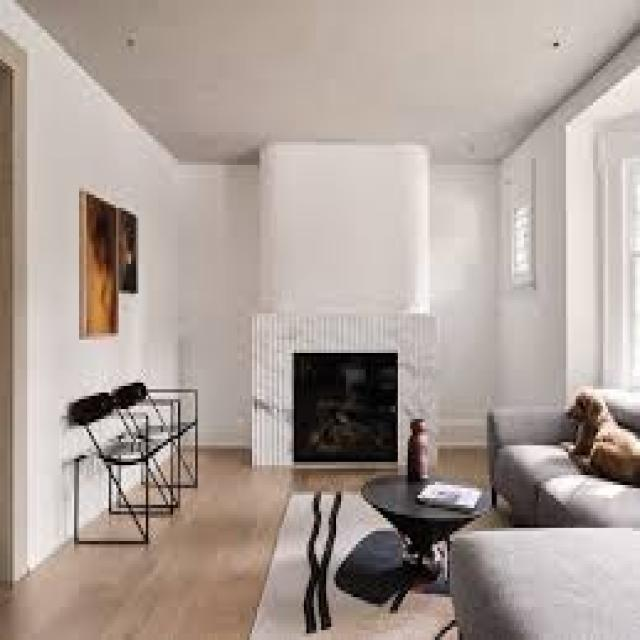Chair: (61, 375, 207, 559)
Sofa: (454, 386, 640, 640)
Table: (357, 467, 465, 592)
